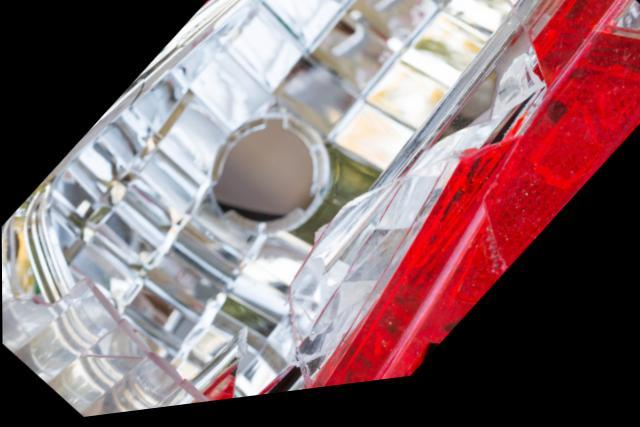lamp broken: (1, 0, 640, 419)
